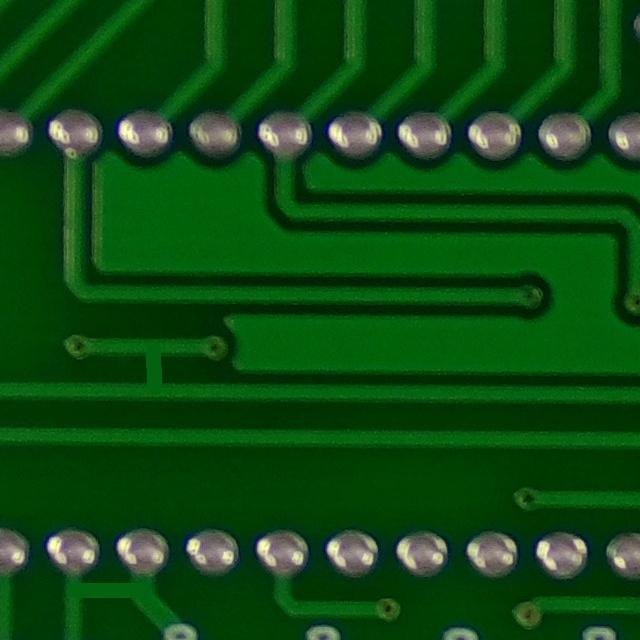short: (50, 546, 169, 621)
